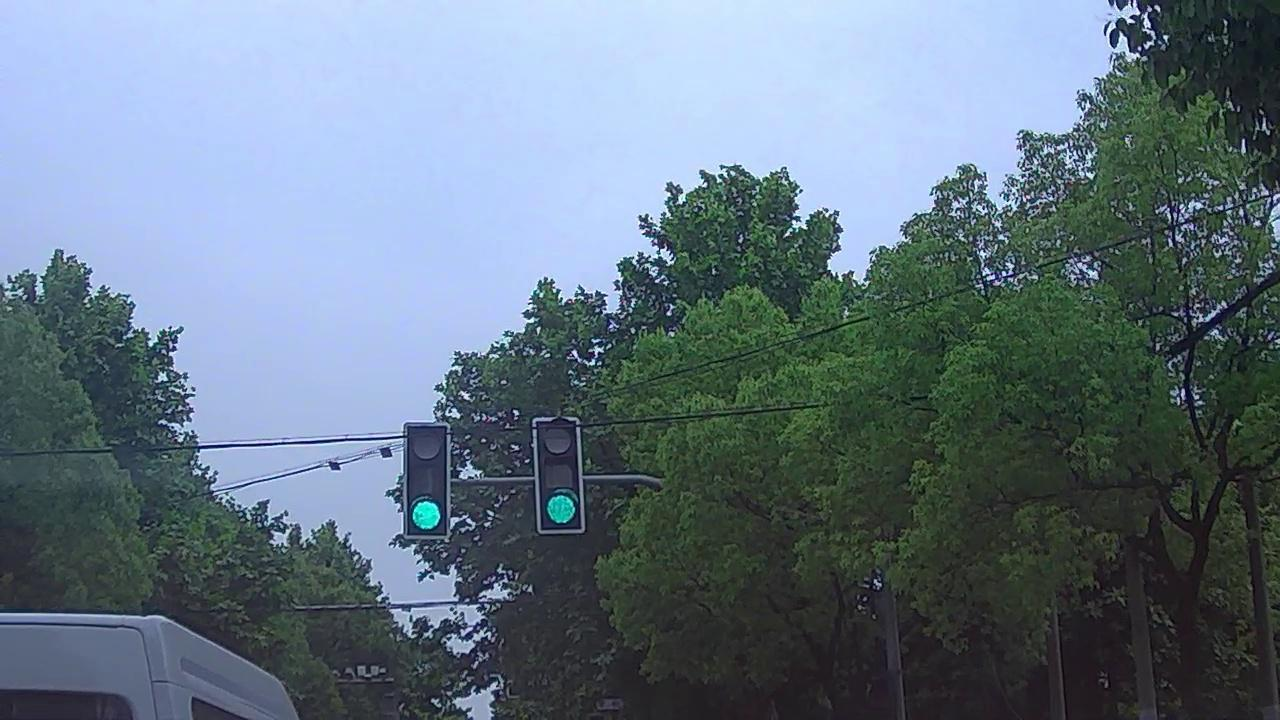traffic_light: (406, 422, 449, 537), (537, 423, 581, 530)
